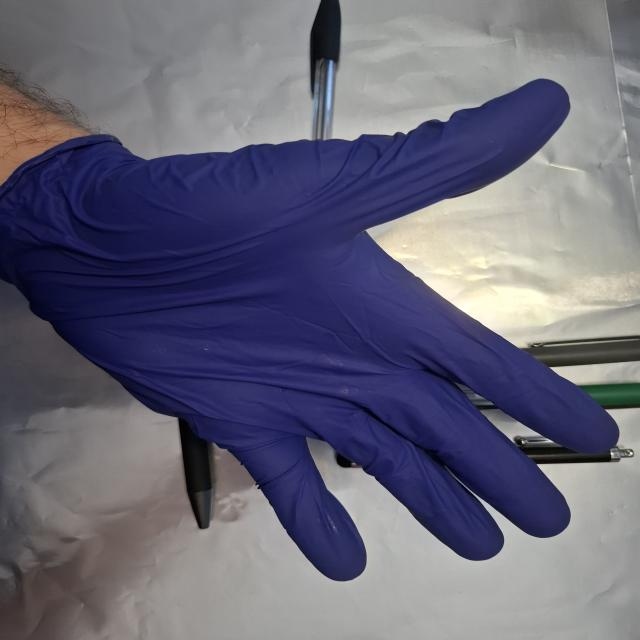glove_on: (4, 76, 628, 584)
